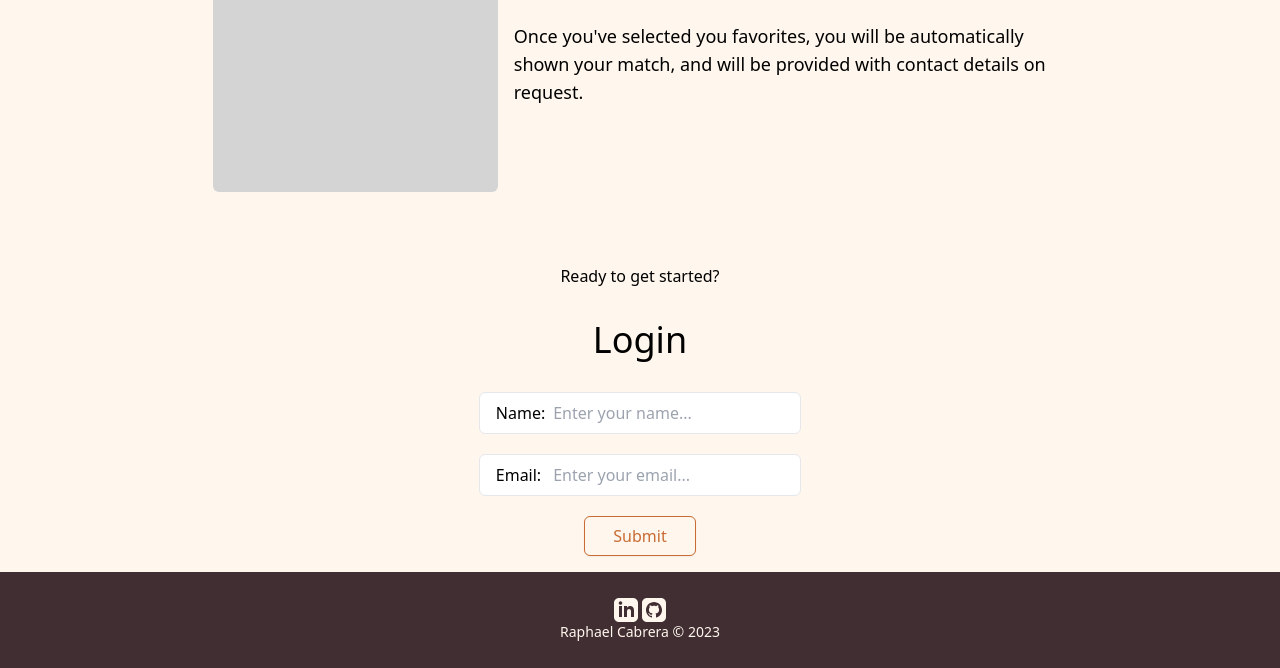
Test case: Full user experience when used properly › sends you back to "dogs" if you try to skip to the "match" page
(page scrolled)
Type "Raphael" into the field named "name" at (669, 413), box [553, 401, 784, 425]
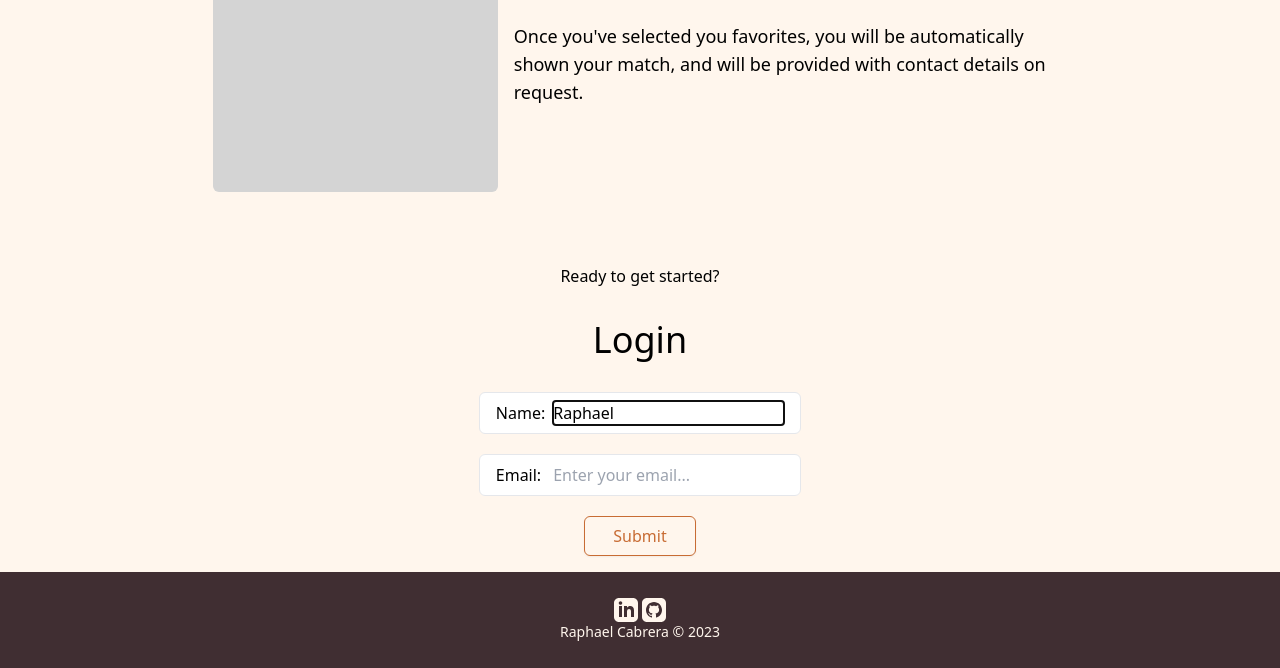
Type "raphael.cabrera111@gmail.com" into the field named "email" at (669, 475), box [553, 463, 784, 487]
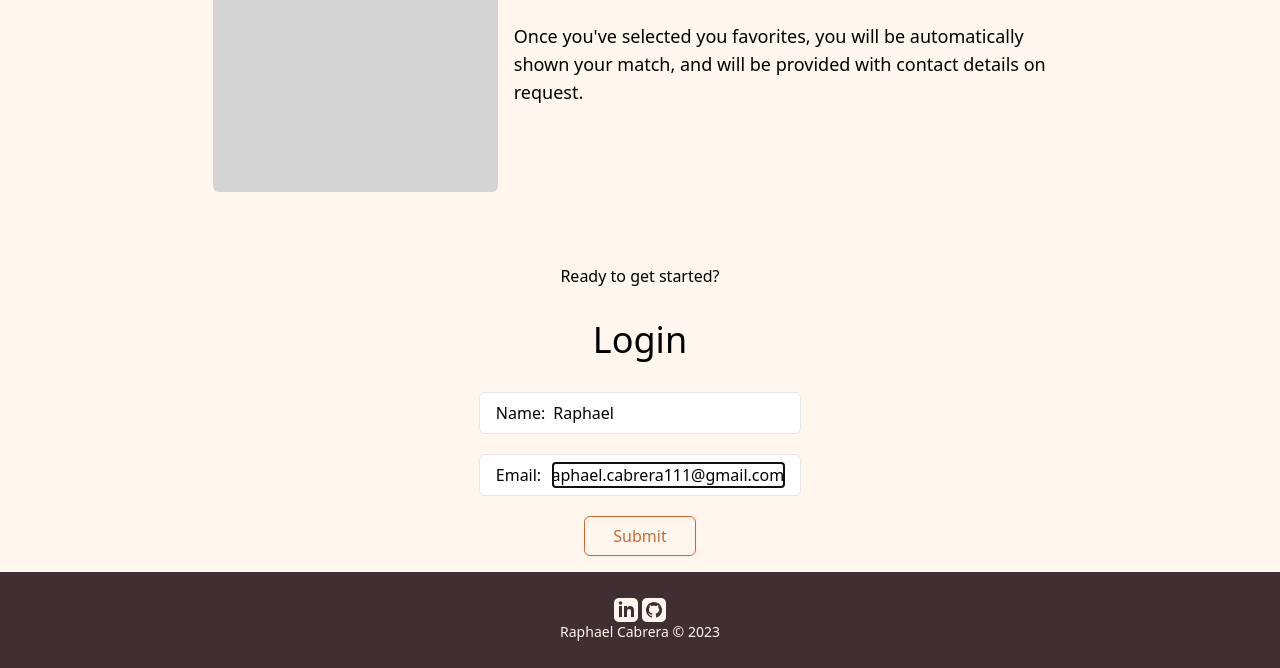
Click the submit button at (640, 536), box [584, 516, 696, 556]
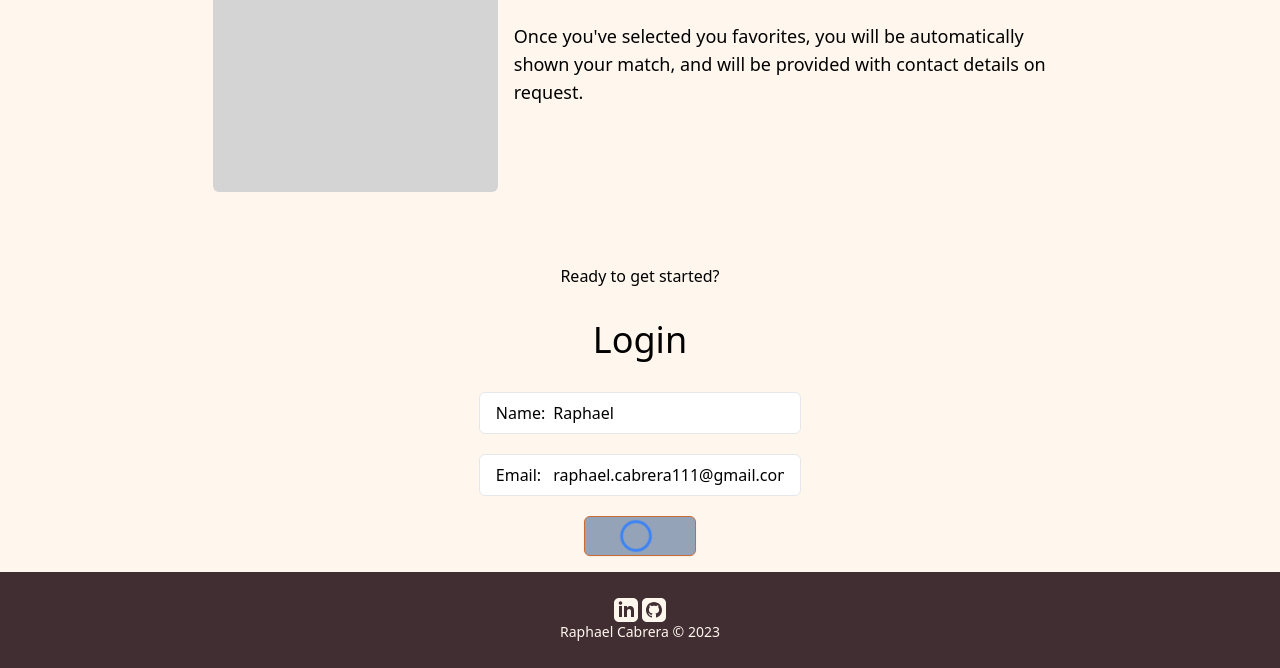
Open "/match"
(page scrolled)
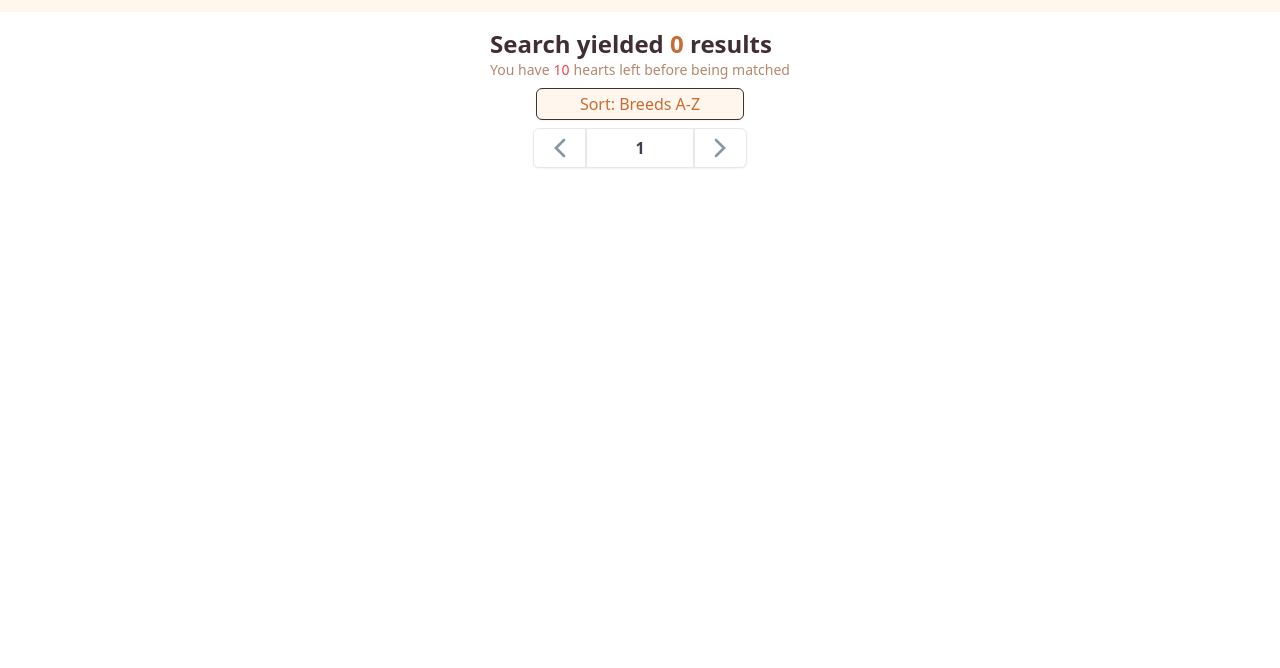
Check: the heading "Search yielded 0 results" is shown, box [490, 28, 790, 60]
